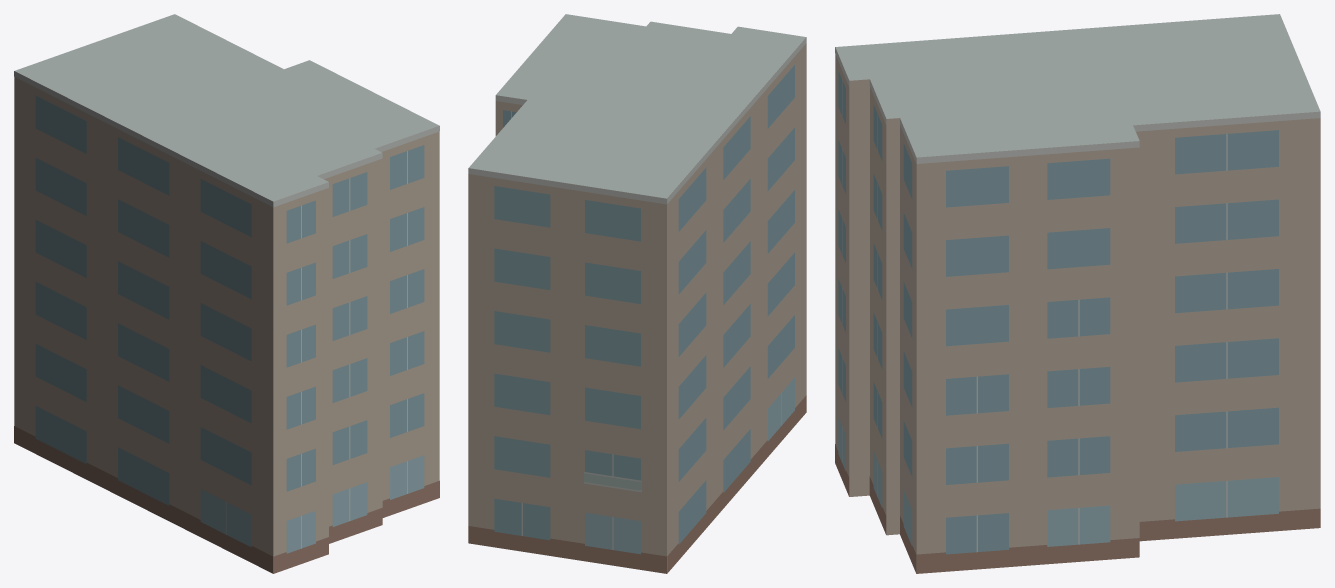
File: survey-upis-32964454.glb
3 views of the same model, side by side, from view 1: azimuth 30°, elevation 25°; view 2: azimuth 150°, elevation 25°; view 3: azimuth 270°, elevation 25° (orthographic). The views are drawn at different scales.
Parts seen in each view (by area): view 1: survey-upis-32964454.tmp; view 2: survey-upis-32964454.tmp; view 3: survey-upis-32964454.tmp.
Boxes of the visible parts, bbox=[...] form: survey-upis-32964454.tmp: bbox=[14, 14, 439, 573]; survey-upis-32964454.tmp: bbox=[468, 14, 806, 573]; survey-upis-32964454.tmp: bbox=[835, 14, 1320, 573].
Size of the model in its own units: 11.69 by 15.8 by 16.71.
